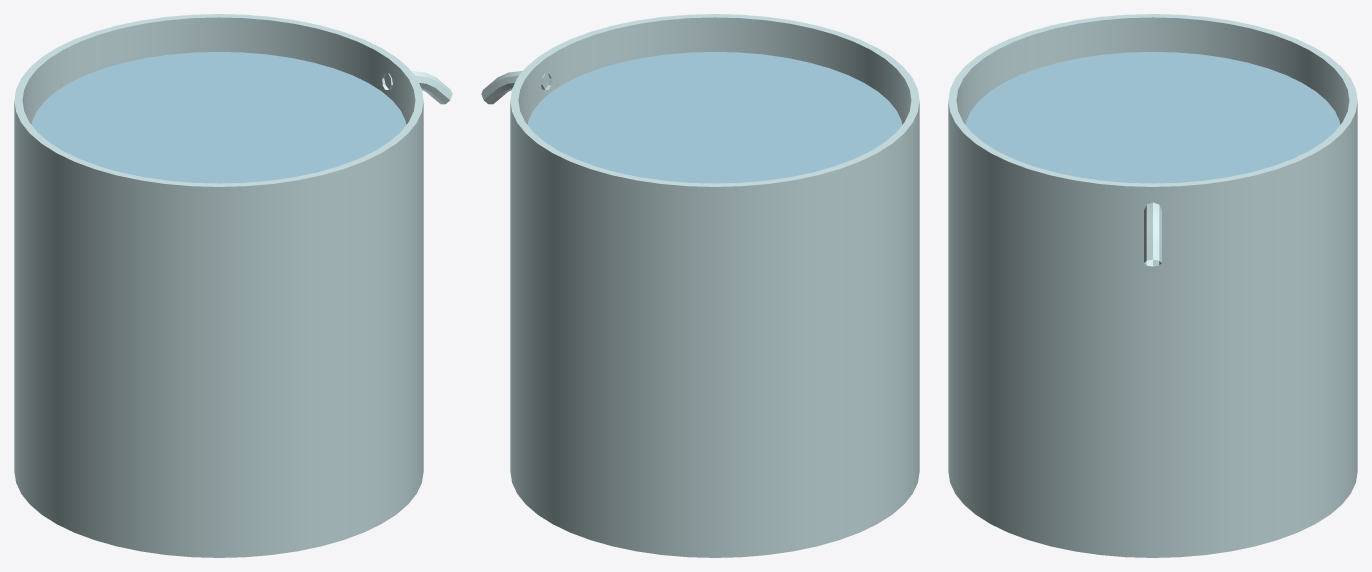
The model's file is convection_apparatus.glb.
3 views of the same model, side by side, from view 1: azimuth 30°, elevation 25°; view 2: azimuth 150°, elevation 25°; view 3: azimuth 270°, elevation 25° (orthographic).
Parts seen in each view (by area): view 1: Beaker, Water, Spout; view 2: Beaker, Water, Spout; view 3: Beaker, Water, Spout.
Boxes of the visible parts, bbox=[...] form: Beaker: bbox=[14, 14, 423, 557]; Water: bbox=[31, 52, 406, 183]; Spout: bbox=[382, 71, 452, 104]; Beaker: bbox=[510, 14, 919, 557]; Water: bbox=[527, 52, 902, 183]; Spout: bbox=[481, 71, 551, 104]; Beaker: bbox=[948, 14, 1357, 557]; Water: bbox=[965, 52, 1340, 183]; Spout: bbox=[1144, 202, 1161, 266].
Size of the model in its own units: 3.46 by 3 by 3.
